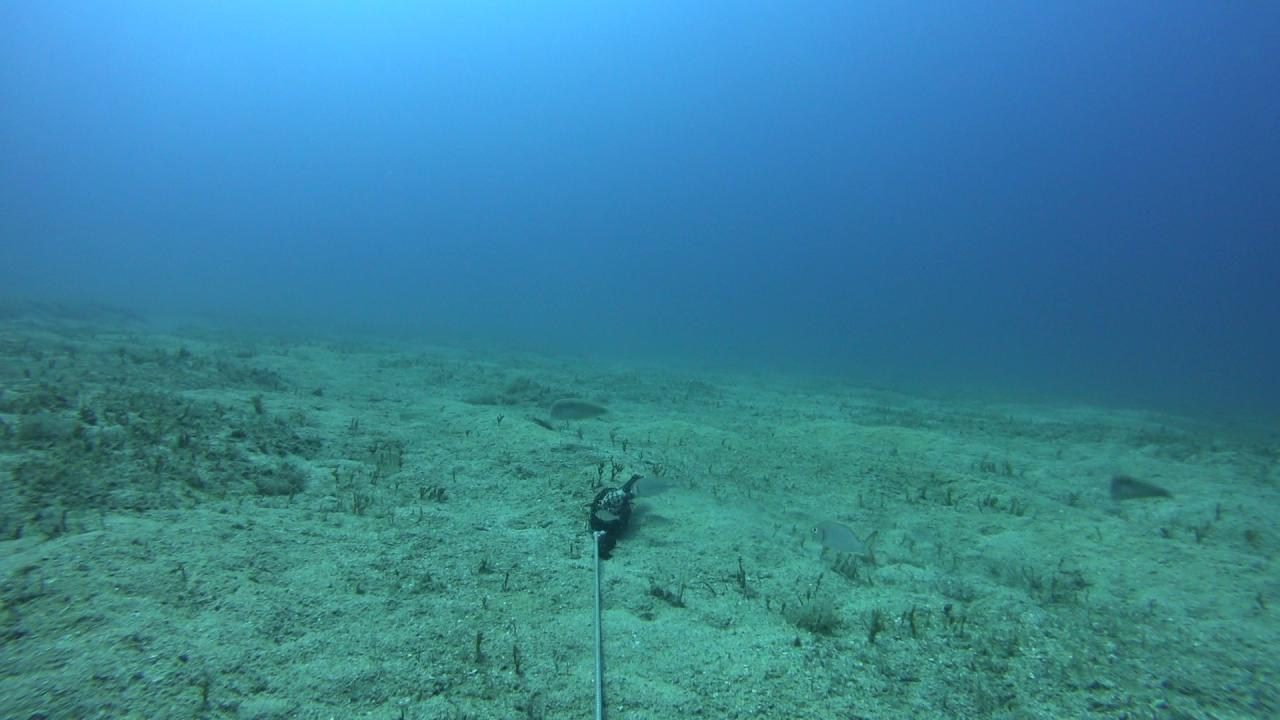pagellus: (808, 520, 878, 561), (632, 474, 684, 498), (596, 511, 625, 523)
raor: (548, 396, 616, 424), (1110, 477, 1178, 502)
